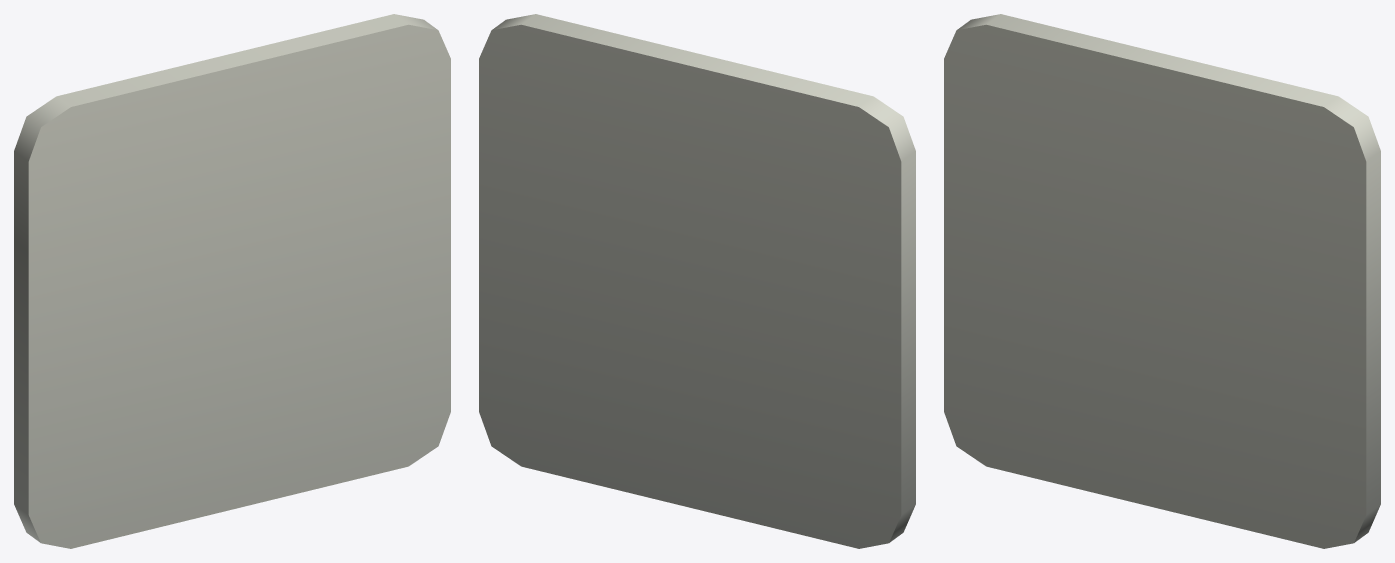
The model's file is Sign_Metal_01.fbx.
The picture shows the model from 3 angles, left to right: view 1: azimuth 30°, elevation 25°; view 2: azimuth 150°, elevation 25°; view 3: azimuth 330°, elevation 25°; orthographic projection.
Visible parts, largest first — view 1: Sign_Metal_01; view 2: Sign_Metal_01; view 3: Sign_Metal_01.
Part boxes in pixels (left/top/right/bottom): Sign_Metal_01: left=14, top=14, right=450, bottom=548; Sign_Metal_01: left=479, top=14, right=915, bottom=548; Sign_Metal_01: left=944, top=14, right=1380, bottom=548.
Bounding box in the file's own units: 100 × 100 × 6.
